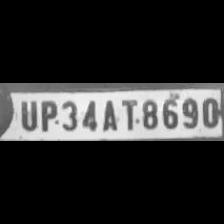0: (200, 95, 218, 129)
3: (58, 98, 78, 132)
4: (79, 97, 98, 131)
6: (160, 96, 178, 130)
8: (138, 96, 158, 130)
9: (178, 96, 200, 128)
A: (98, 97, 119, 132)
P: (36, 98, 58, 132)
T: (118, 97, 138, 131)
U: (16, 98, 38, 132)
